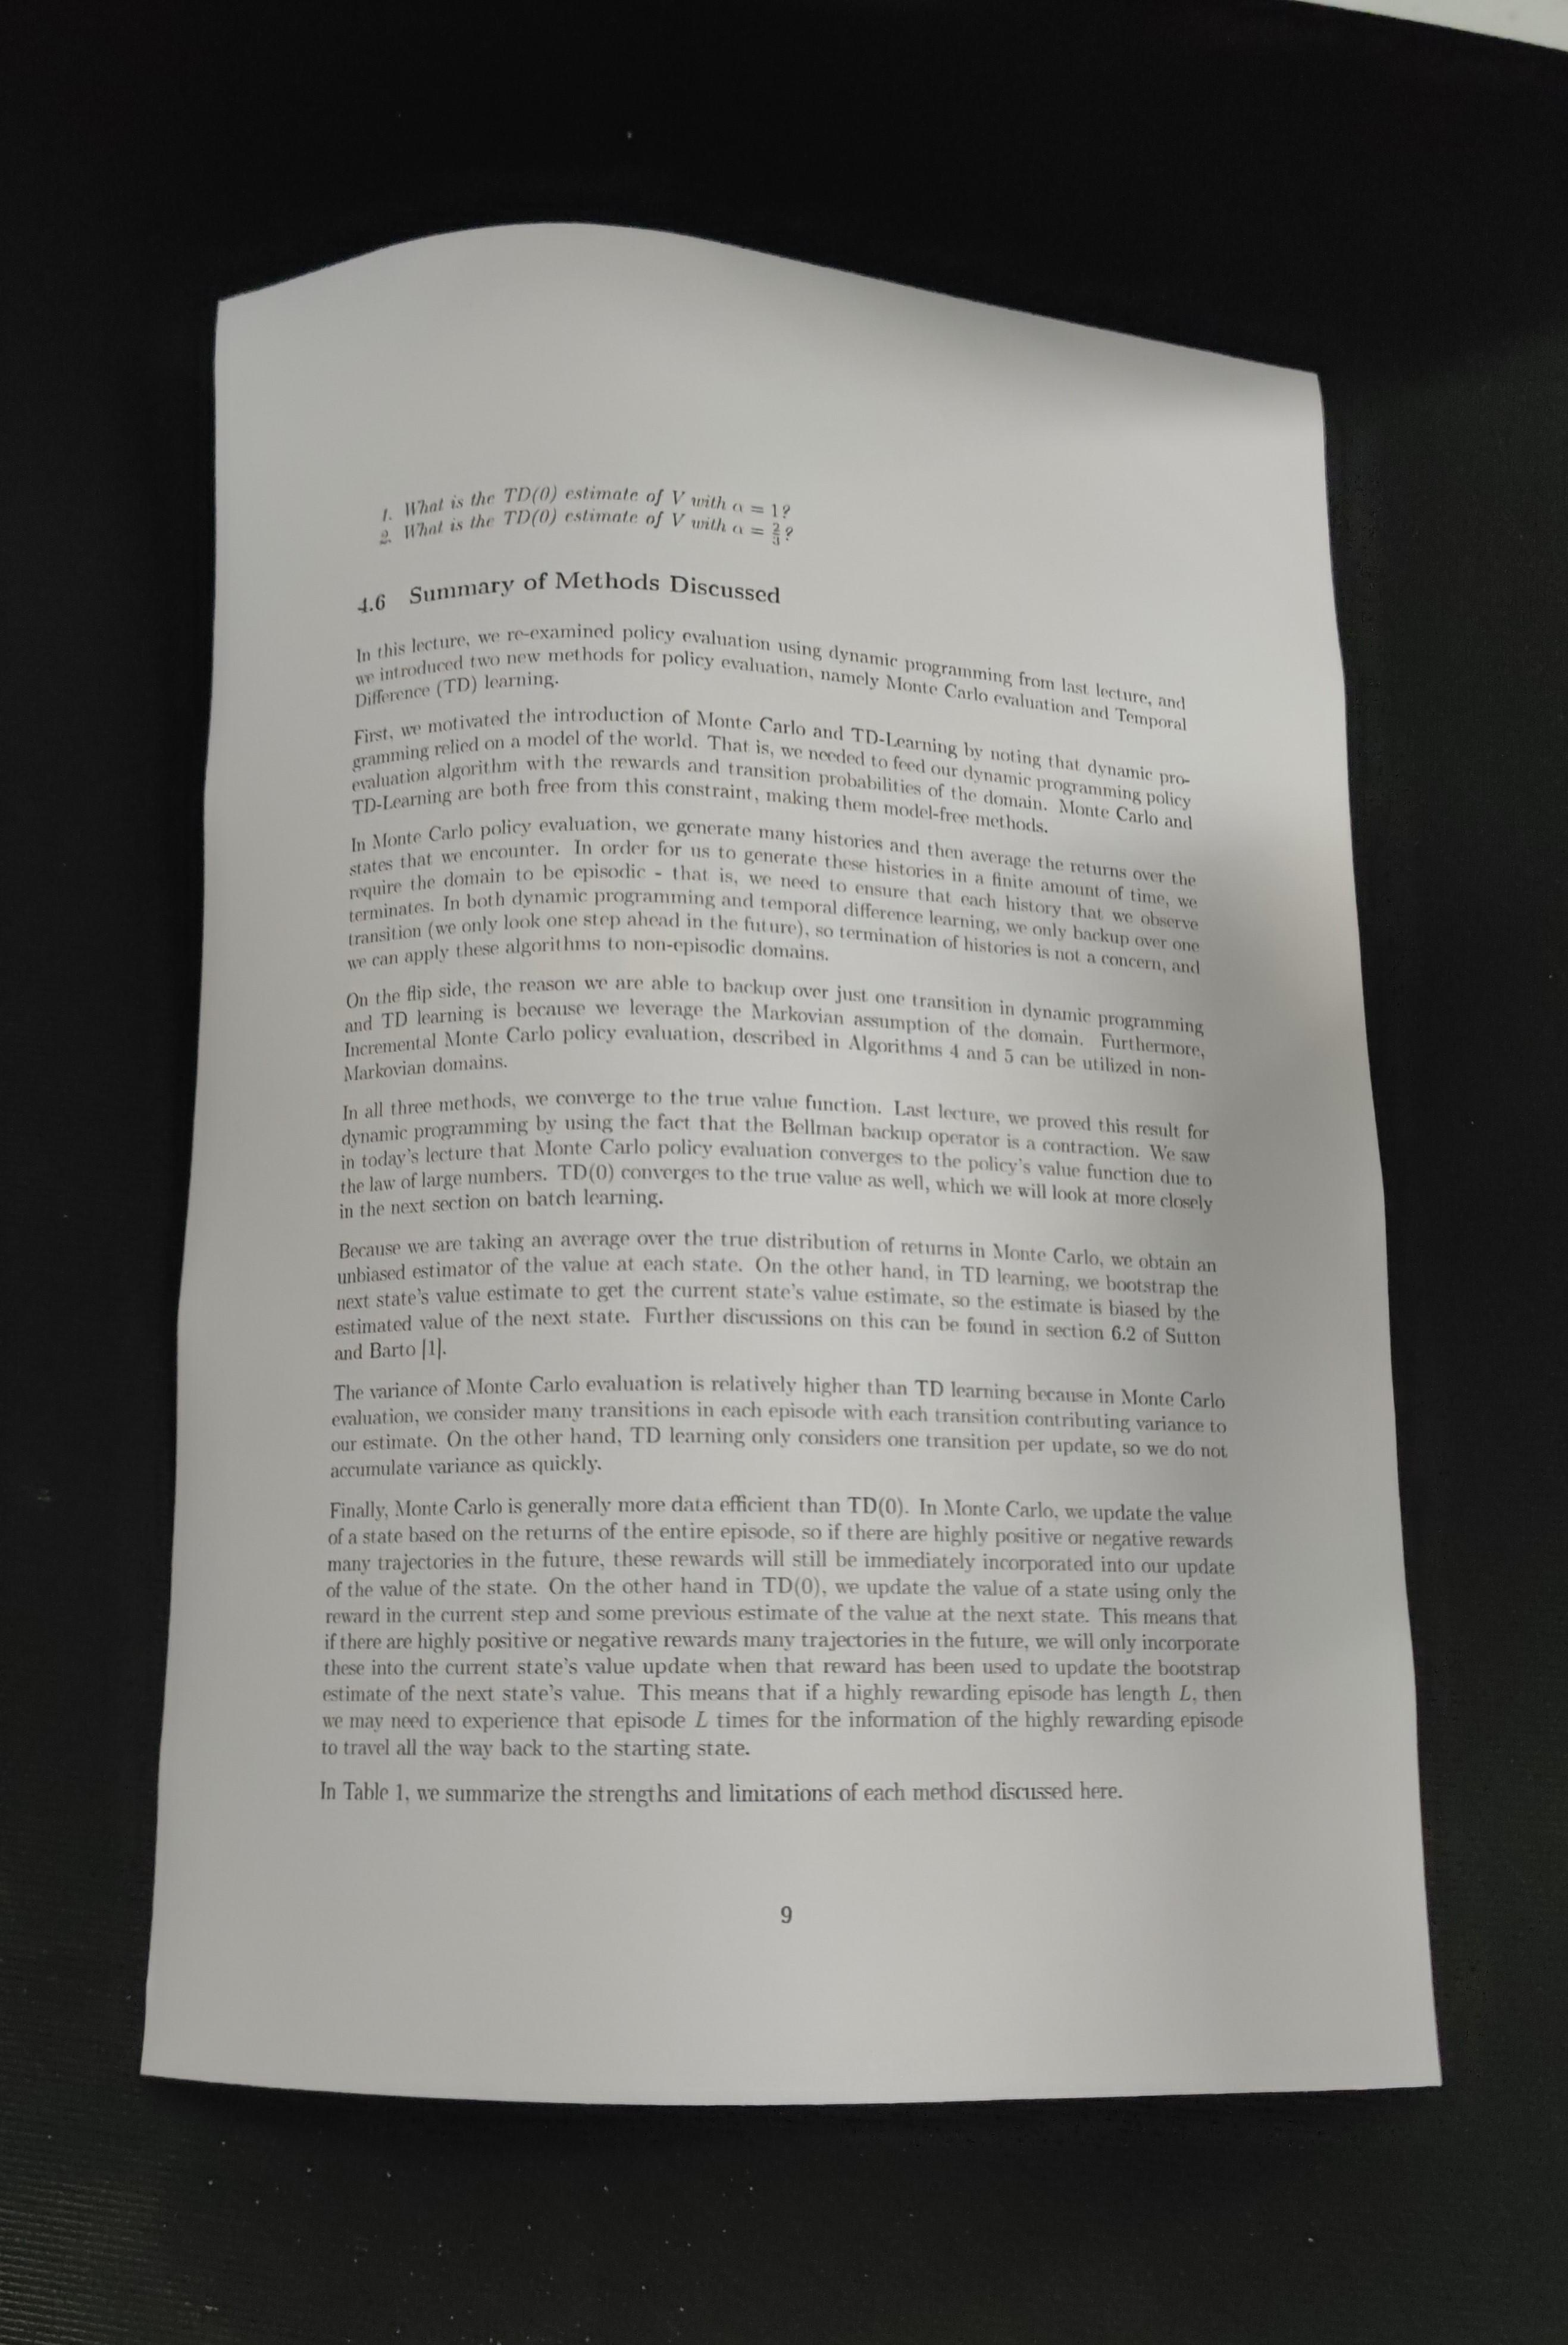paper: (56, 161, 1568, 2186)
